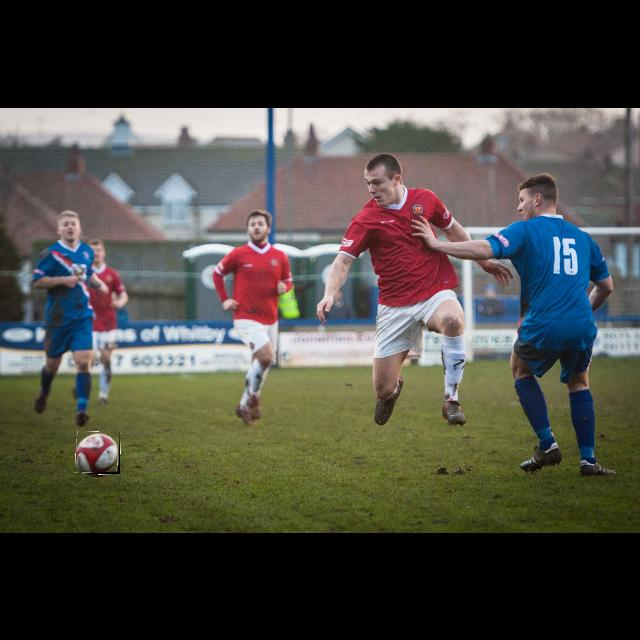Football: (76, 432, 120, 474)
